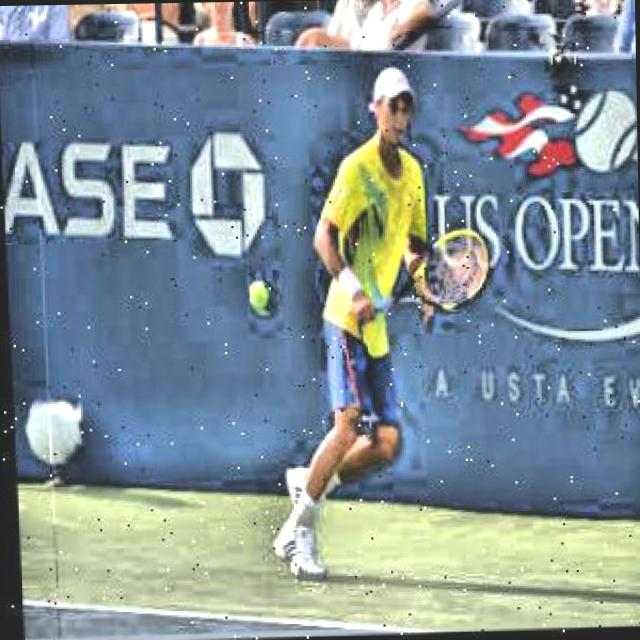tennis-ball: (250, 284, 278, 318)
